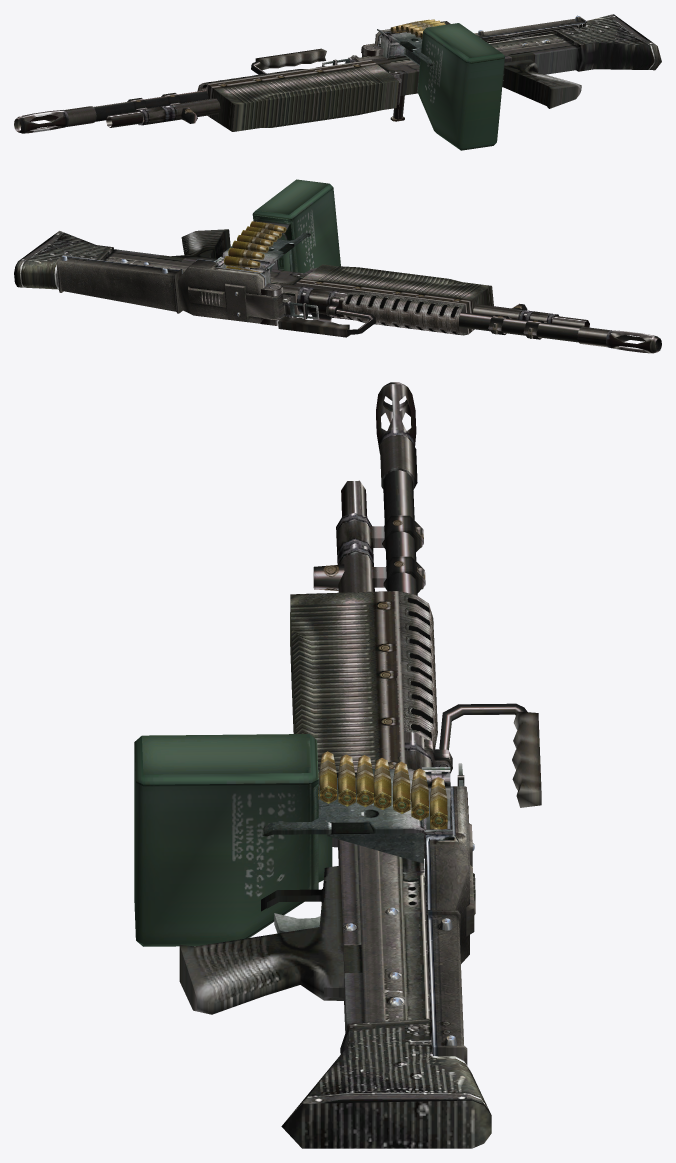
3 renders of one model, top to bottom at view 1: azimuth 30°, elevation 25°; view 2: azimuth 150°, elevation 25°; view 3: azimuth 270°, elevation 25°, orthographic. The views are drawn at different scales.
Parts seen in each view (by area): view 1: _m60_1st; view 2: _m60_1st; view 3: _m60_1st.
Part boxes in pixels (x1,y1,x2,y2): _m60_1st: (14,14,661,150); _m60_1st: (14,179,661,353); _m60_1st: (134,382,541,1148).
Bounding box in the file's own units: 1.13 × 0.1713 × 0.3233.
3 materials, 3 textured.
